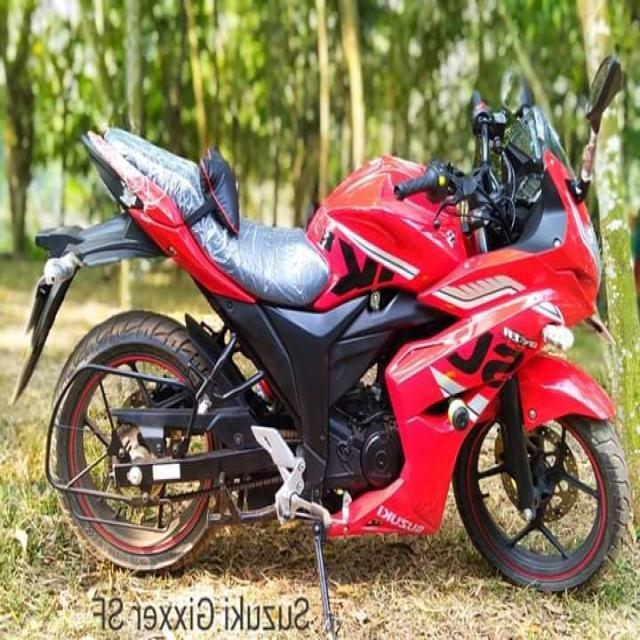Motorbike: (11, 38, 640, 613)
